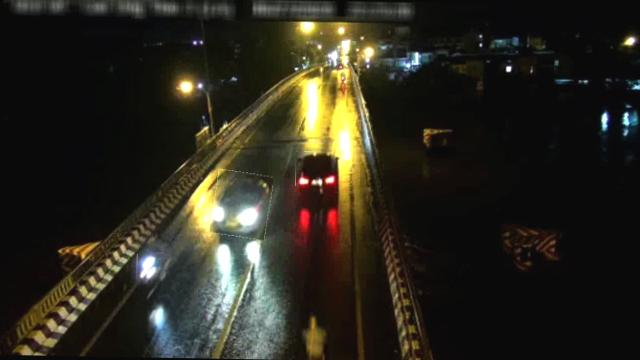Bike: (137, 252, 164, 282)
Car: (212, 170, 272, 238), (296, 151, 340, 193)
